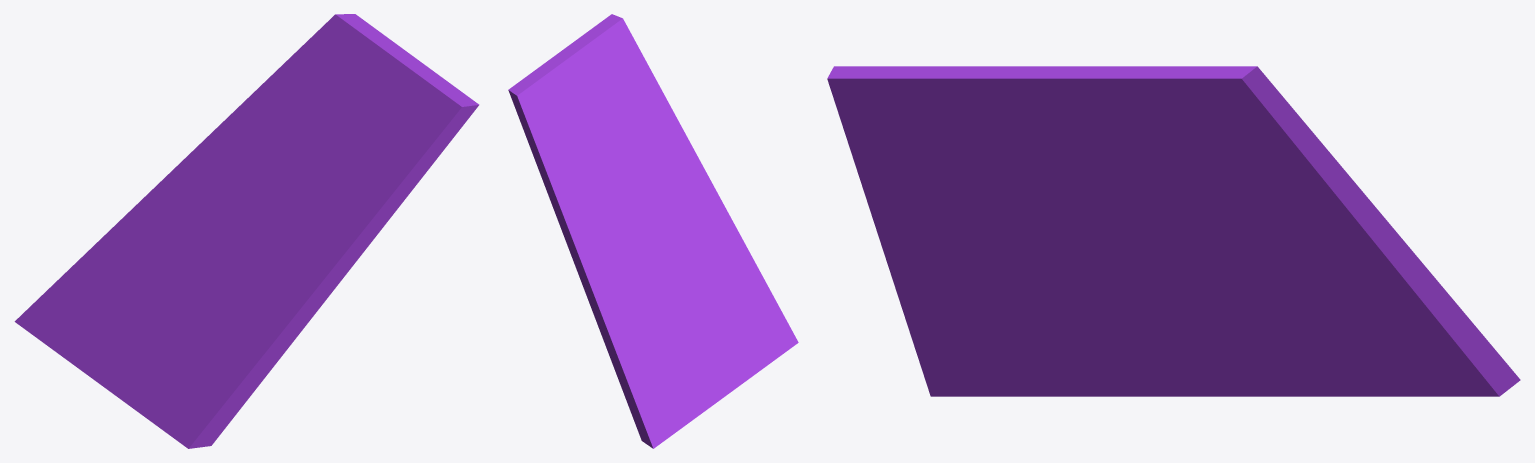
Rendered from Window_63.fbx.
3 views of the same model, side by side, from view 1: azimuth 30°, elevation 25°; view 2: azimuth 150°, elevation 25°; view 3: azimuth 270°, elevation 25° (orthographic). The views are drawn at different scales.
Visible parts, largest first — view 1: Window_63; view 2: Window_63; view 3: Window_63.
Part boxes in pixels (x1,y1,x2,y2): Window_63: [14, 14, 479, 448]; Window_63: [508, 14, 798, 448]; Window_63: [827, 66, 1520, 396].
Bounding box in the file's own units: 833 × 947 × 1164.
